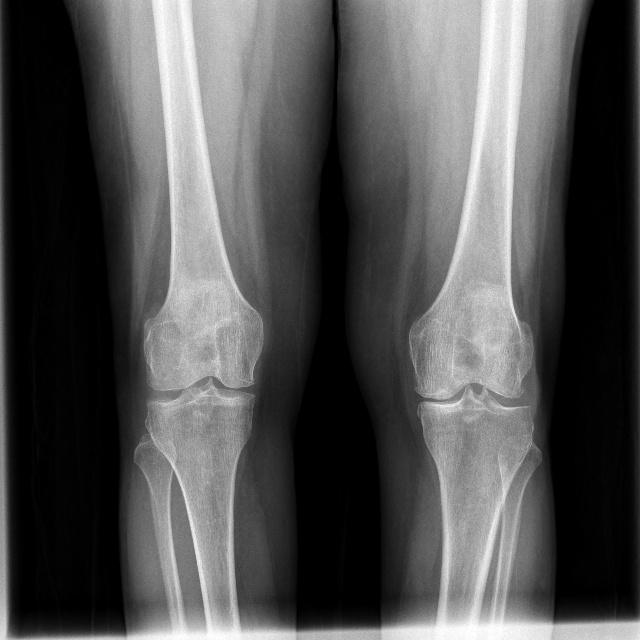Knee: (403, 338, 534, 458), (137, 332, 264, 442)
